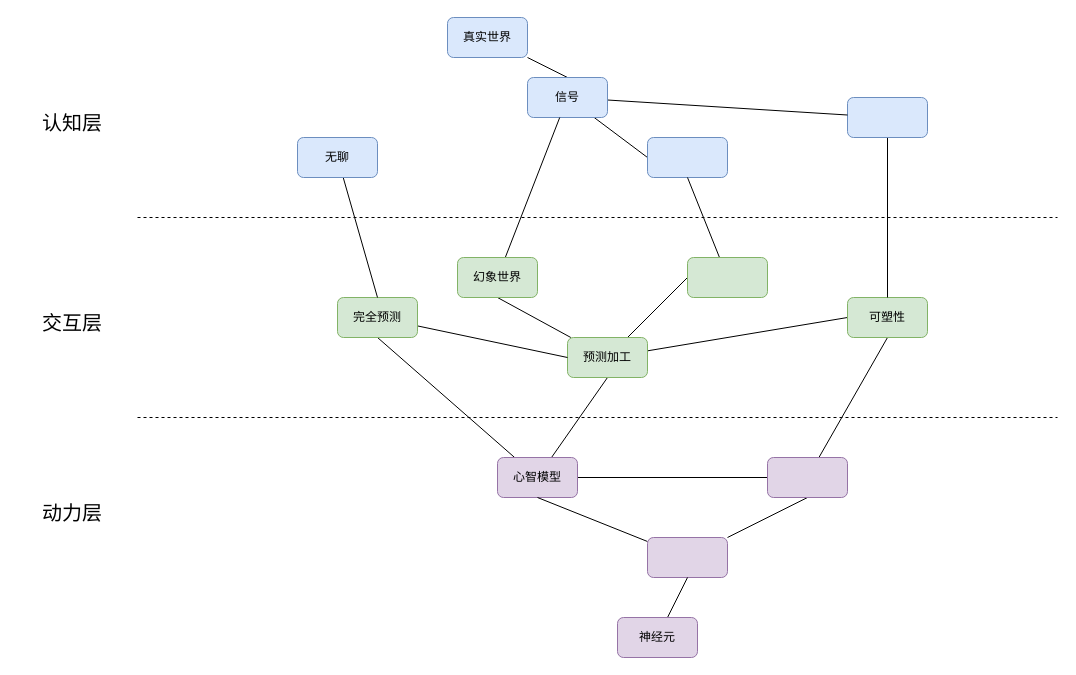
The diagram is 1076 pixels wide and 675 high, and some of its shapes have lost their labels. Each missing label, with the centre of its shape:
用进废退: [887,117]
电信号: [687,157]
神经网络: [687,557]
贝叶斯大脑: [807,477]
预测信号: [727,277]
